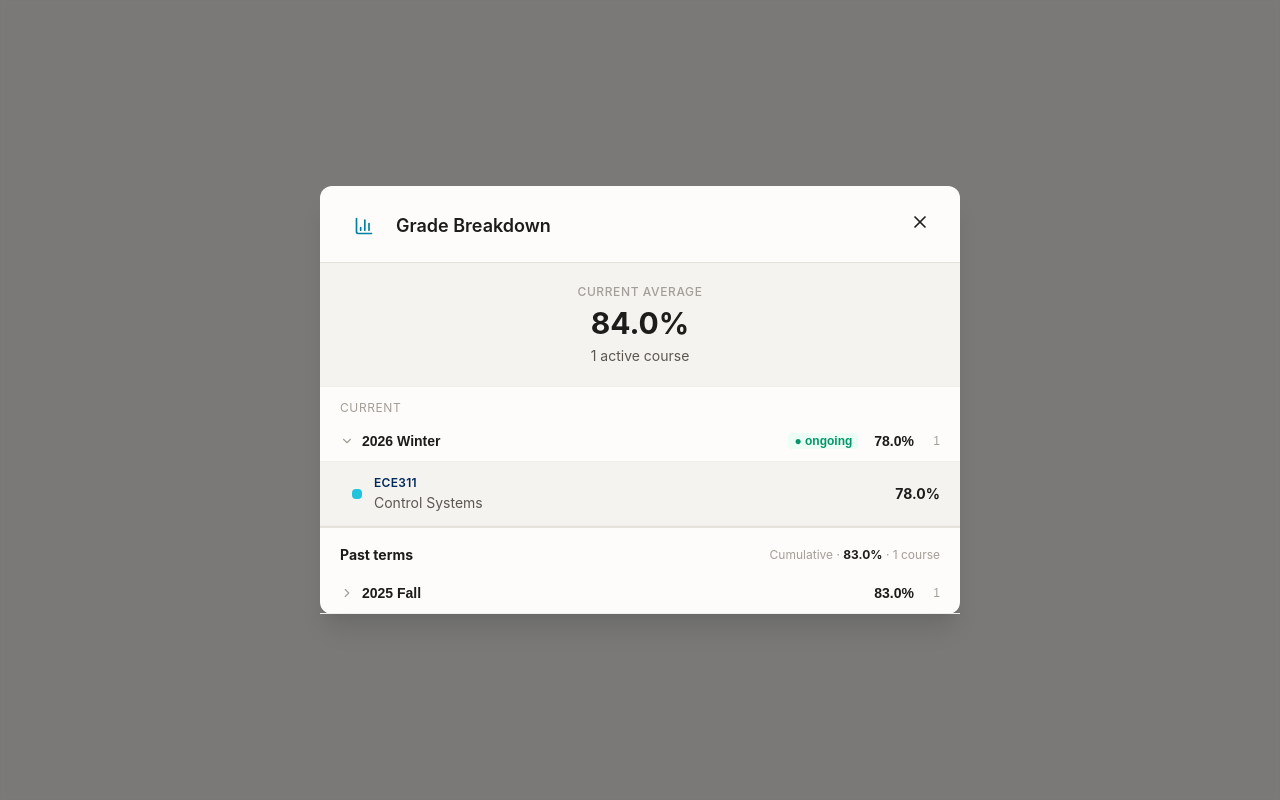
Scenario: GradeBreakdownModal › collapses and expands a past-term group on header click
The width and height of the screenshot is (1280, 800).
Expected: the text "ECE454" is not shown
Click the text "2025 Fall" at (392, 593), box [362,585,421,601]
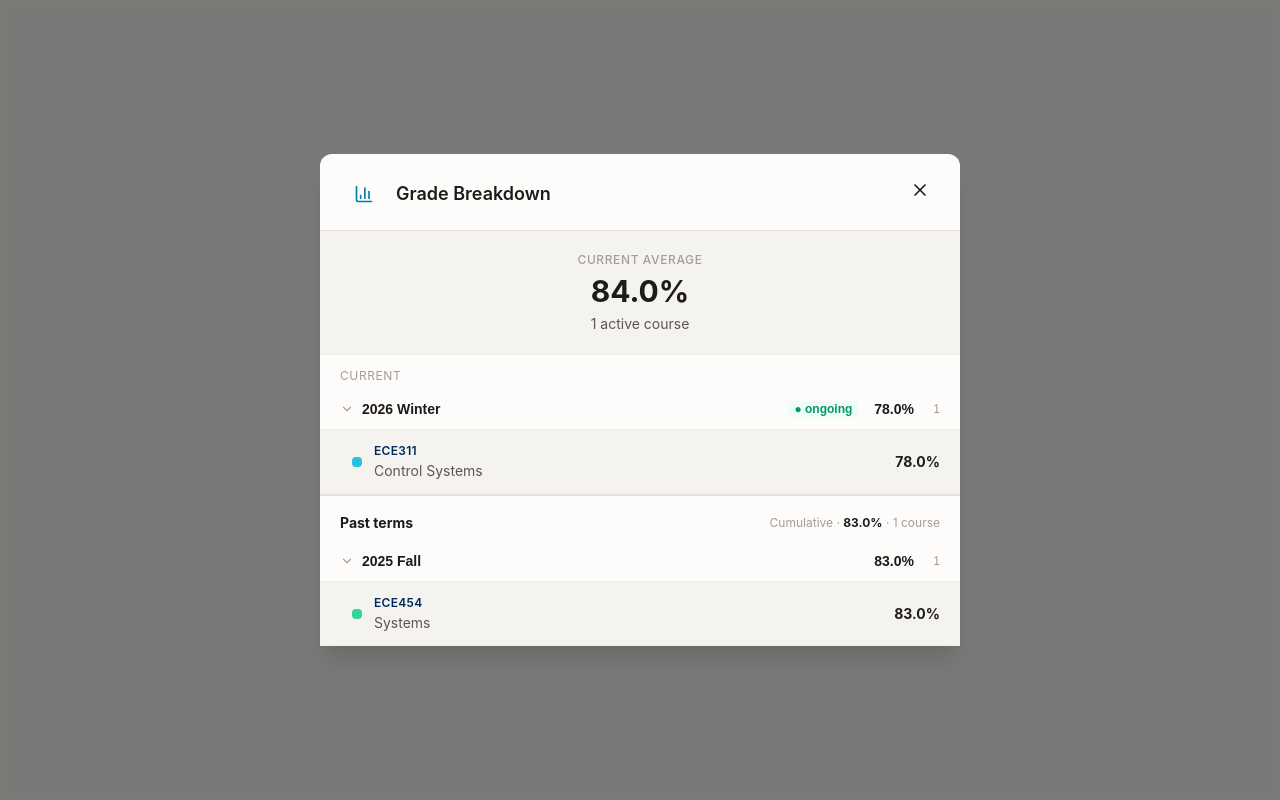
Expected: the text "ECE454" is shown, [374,595,422,610]
Click the text "2025 Fall" at (392, 561), box [362,553,421,569]
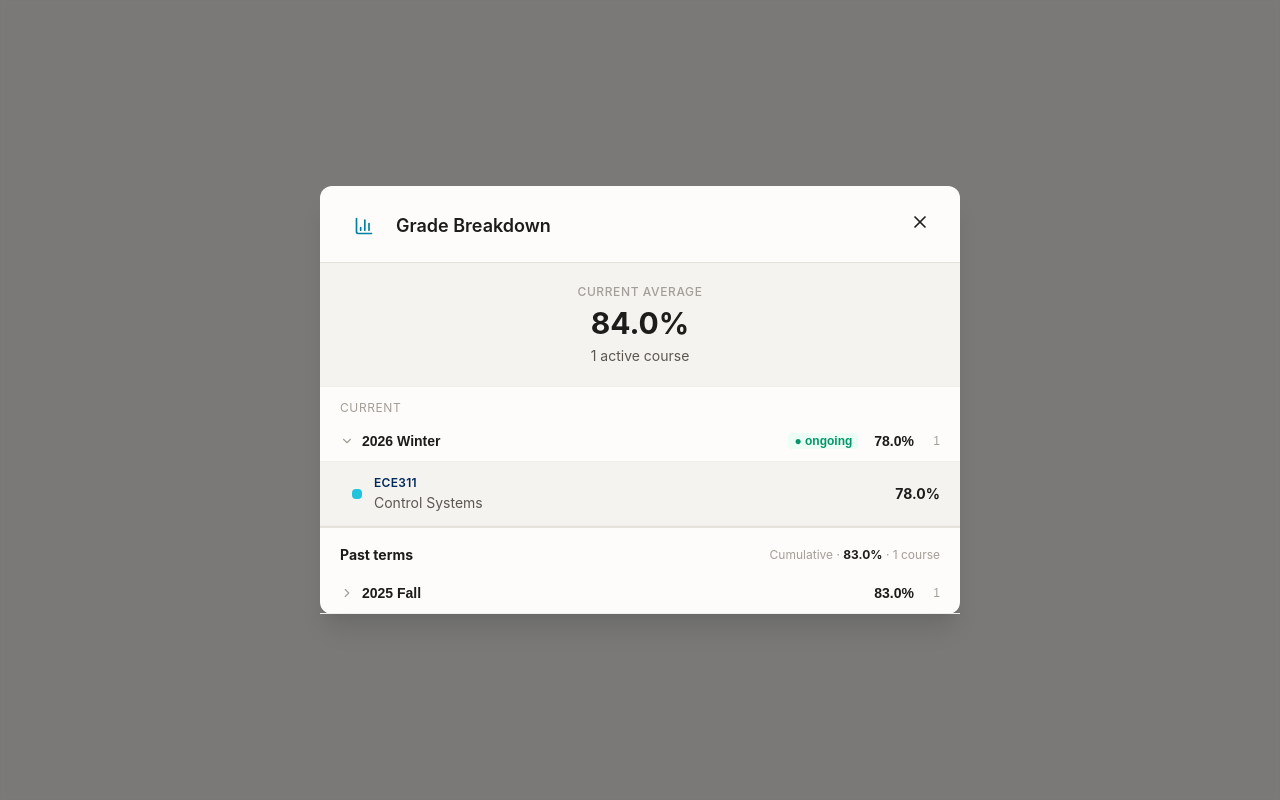
Expected: the text "ECE454" is gone
